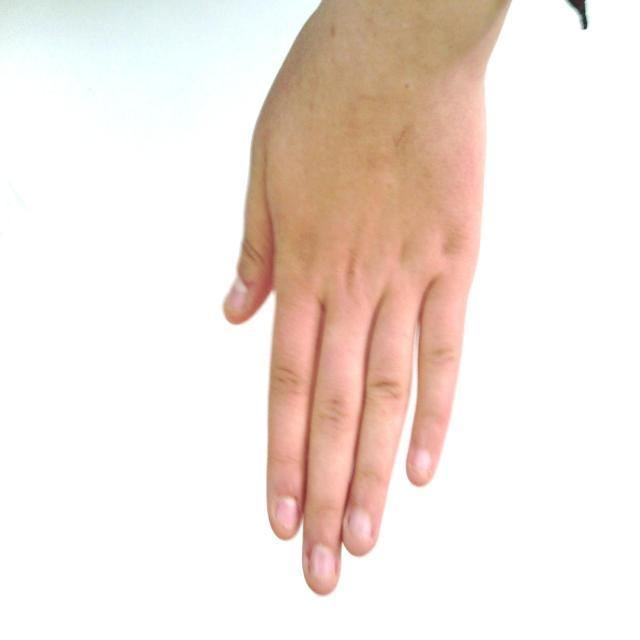Fingernail: (311, 546, 336, 587), (276, 497, 299, 532), (348, 511, 372, 544), (226, 279, 247, 313), (415, 450, 431, 472)
